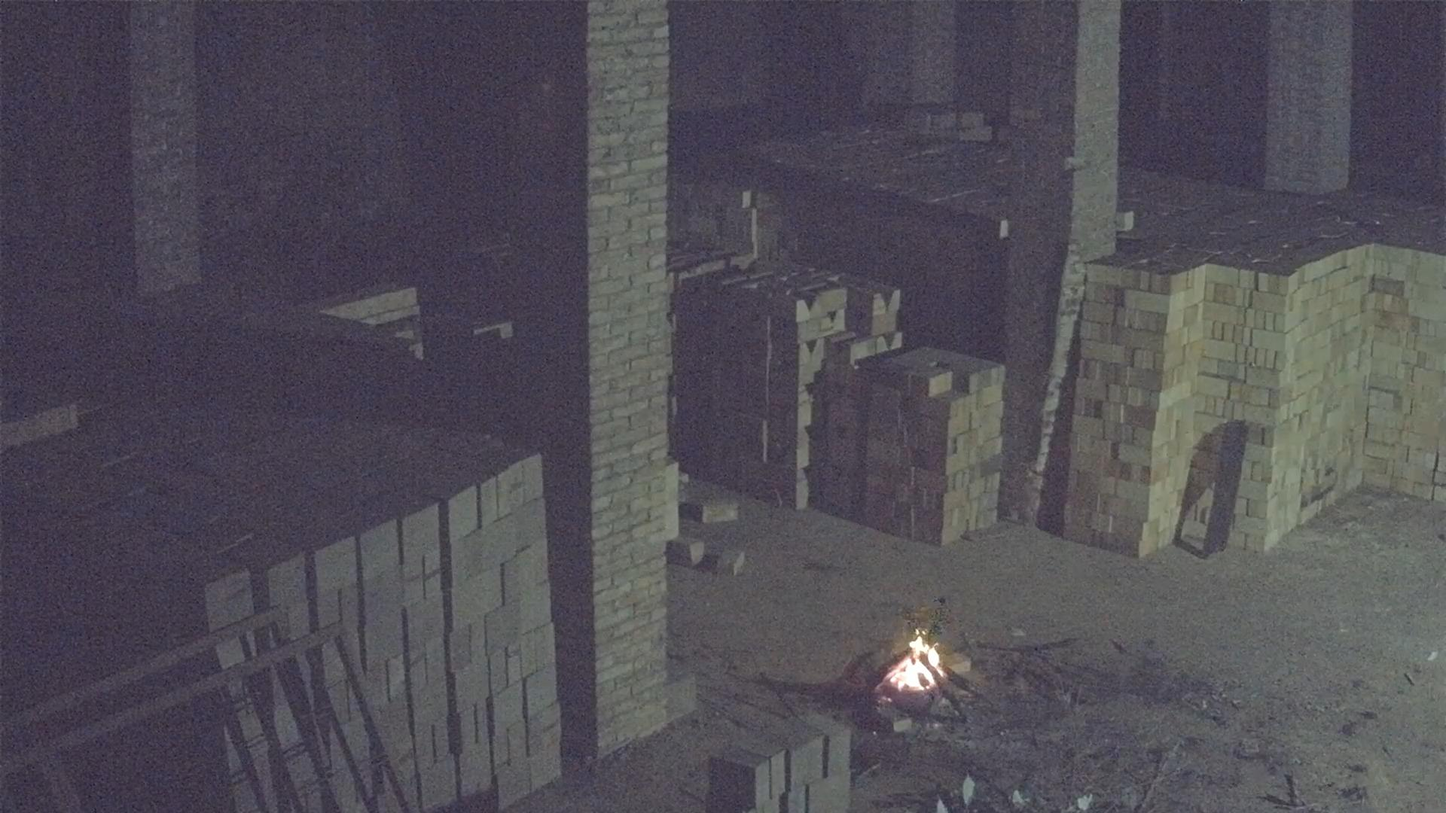fire: (883, 637, 945, 695)
